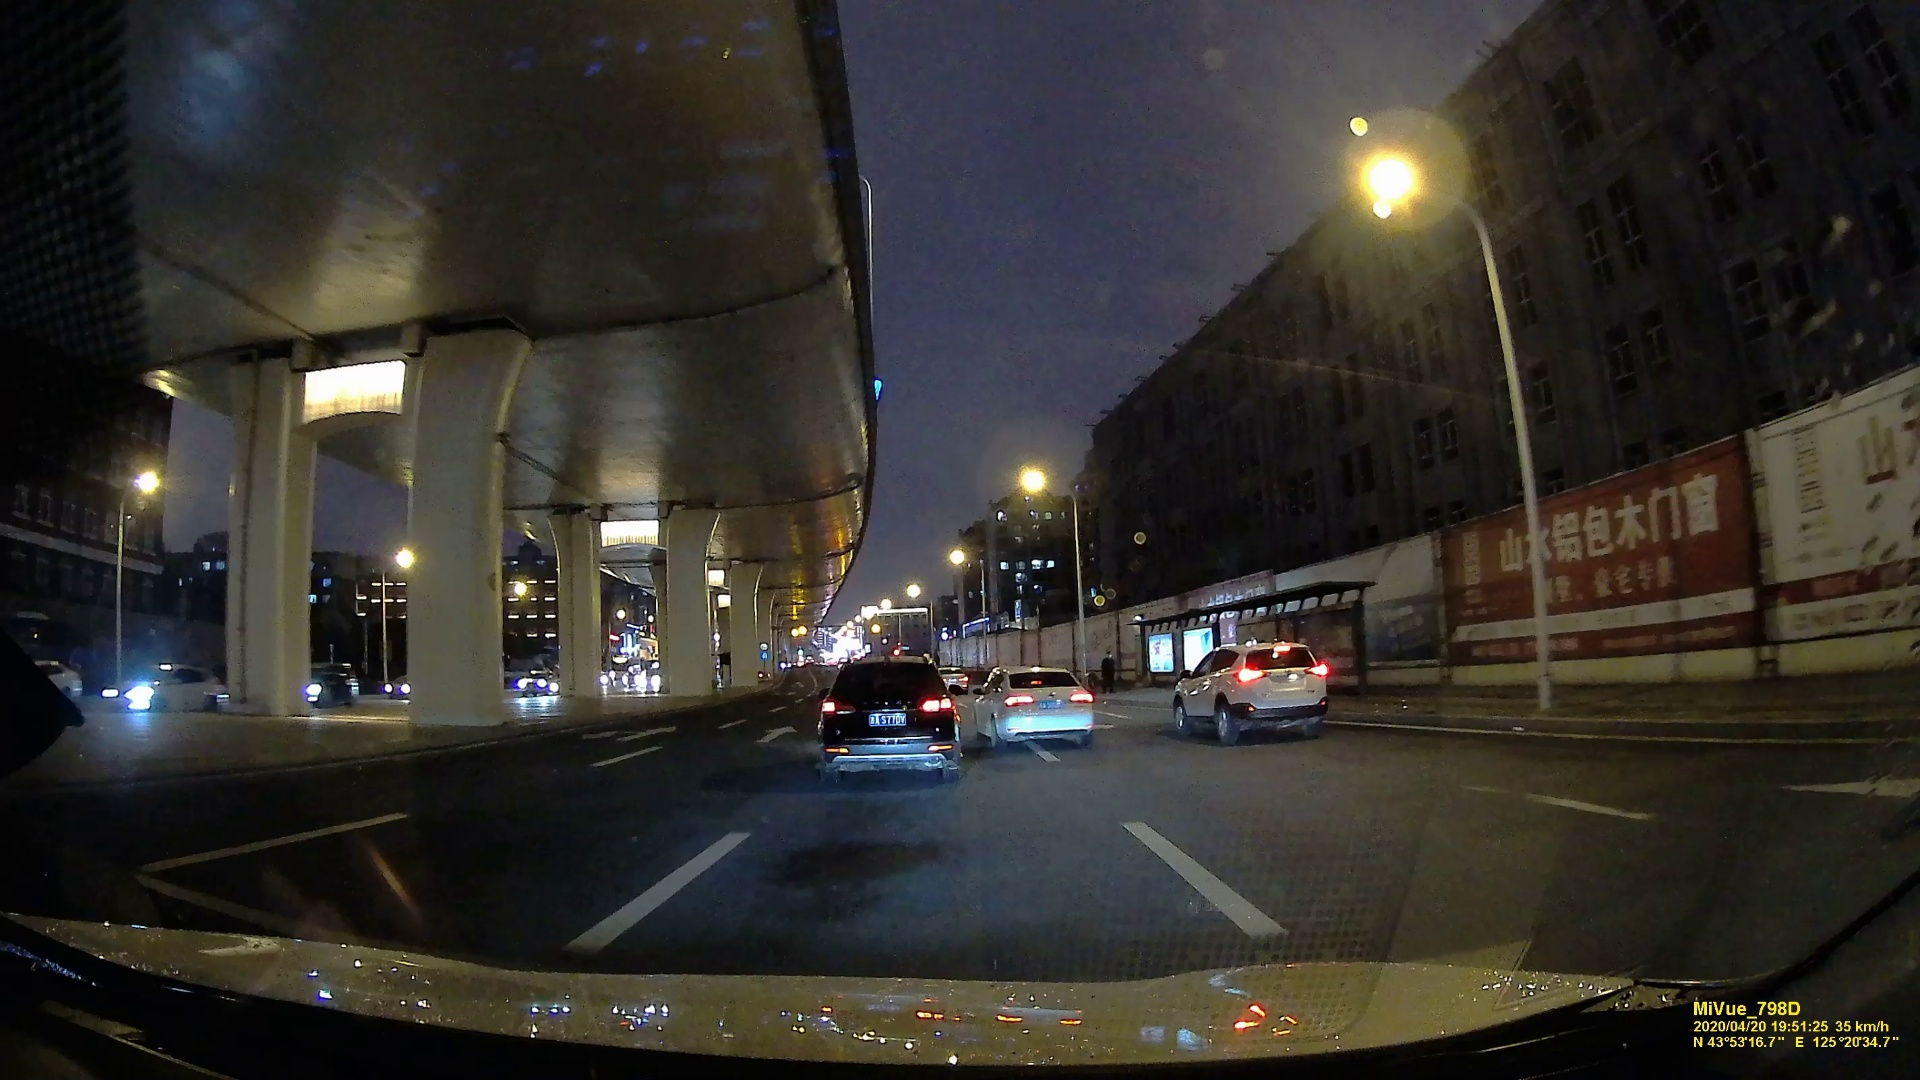person: (1101, 650, 1117, 690)
vehicle: (817, 656, 955, 788), (1177, 640, 1335, 744), (972, 661, 1094, 749), (99, 661, 219, 712), (518, 671, 551, 695)
